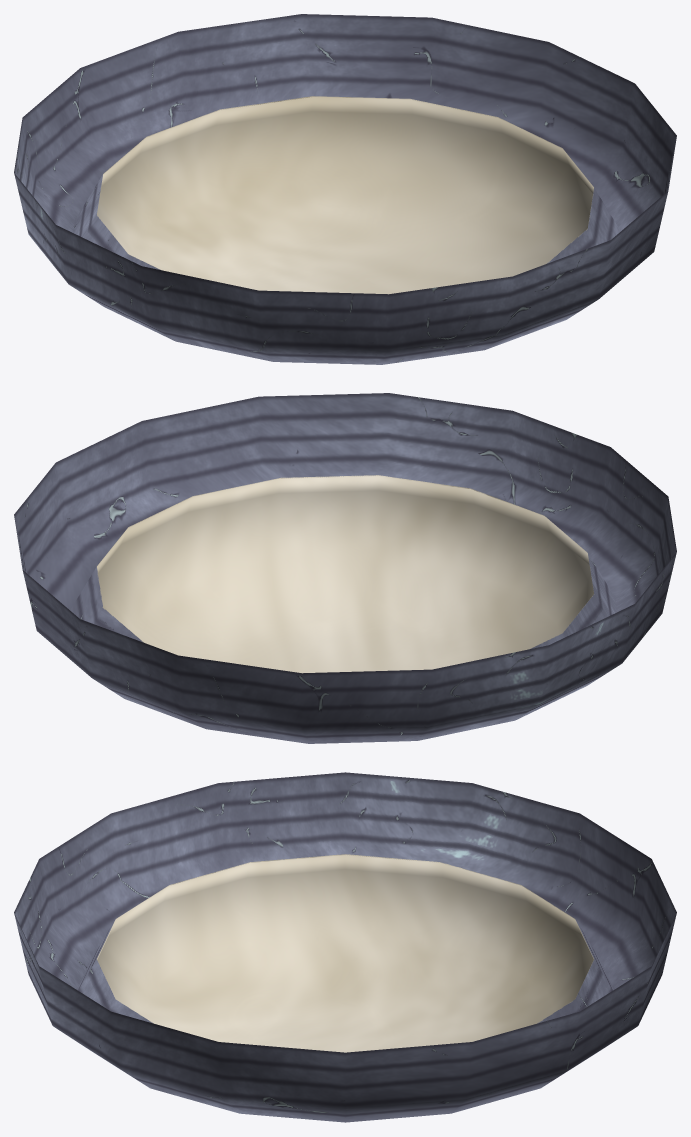
Rendered from CeilingLight2.fbx.
3 renders of one model, top to bottom at view 1: azimuth 30°, elevation 25°; view 2: azimuth 150°, elevation 25°; view 3: azimuth 270°, elevation 25°, orthographic.
Visible parts, largest first — view 1: CeilingLight2; view 2: CeilingLight2; view 3: CeilingLight2.
Part boxes in pixels (bbox=[...]): CeilingLight2: bbox=[14, 14, 676, 364]; CeilingLight2: bbox=[14, 393, 676, 743]; CeilingLight2: bbox=[14, 772, 676, 1122].
Size of the model in its own units: 83.71 by 22.1 by 83.71.
Materials: 2 (2 with a texture image).
